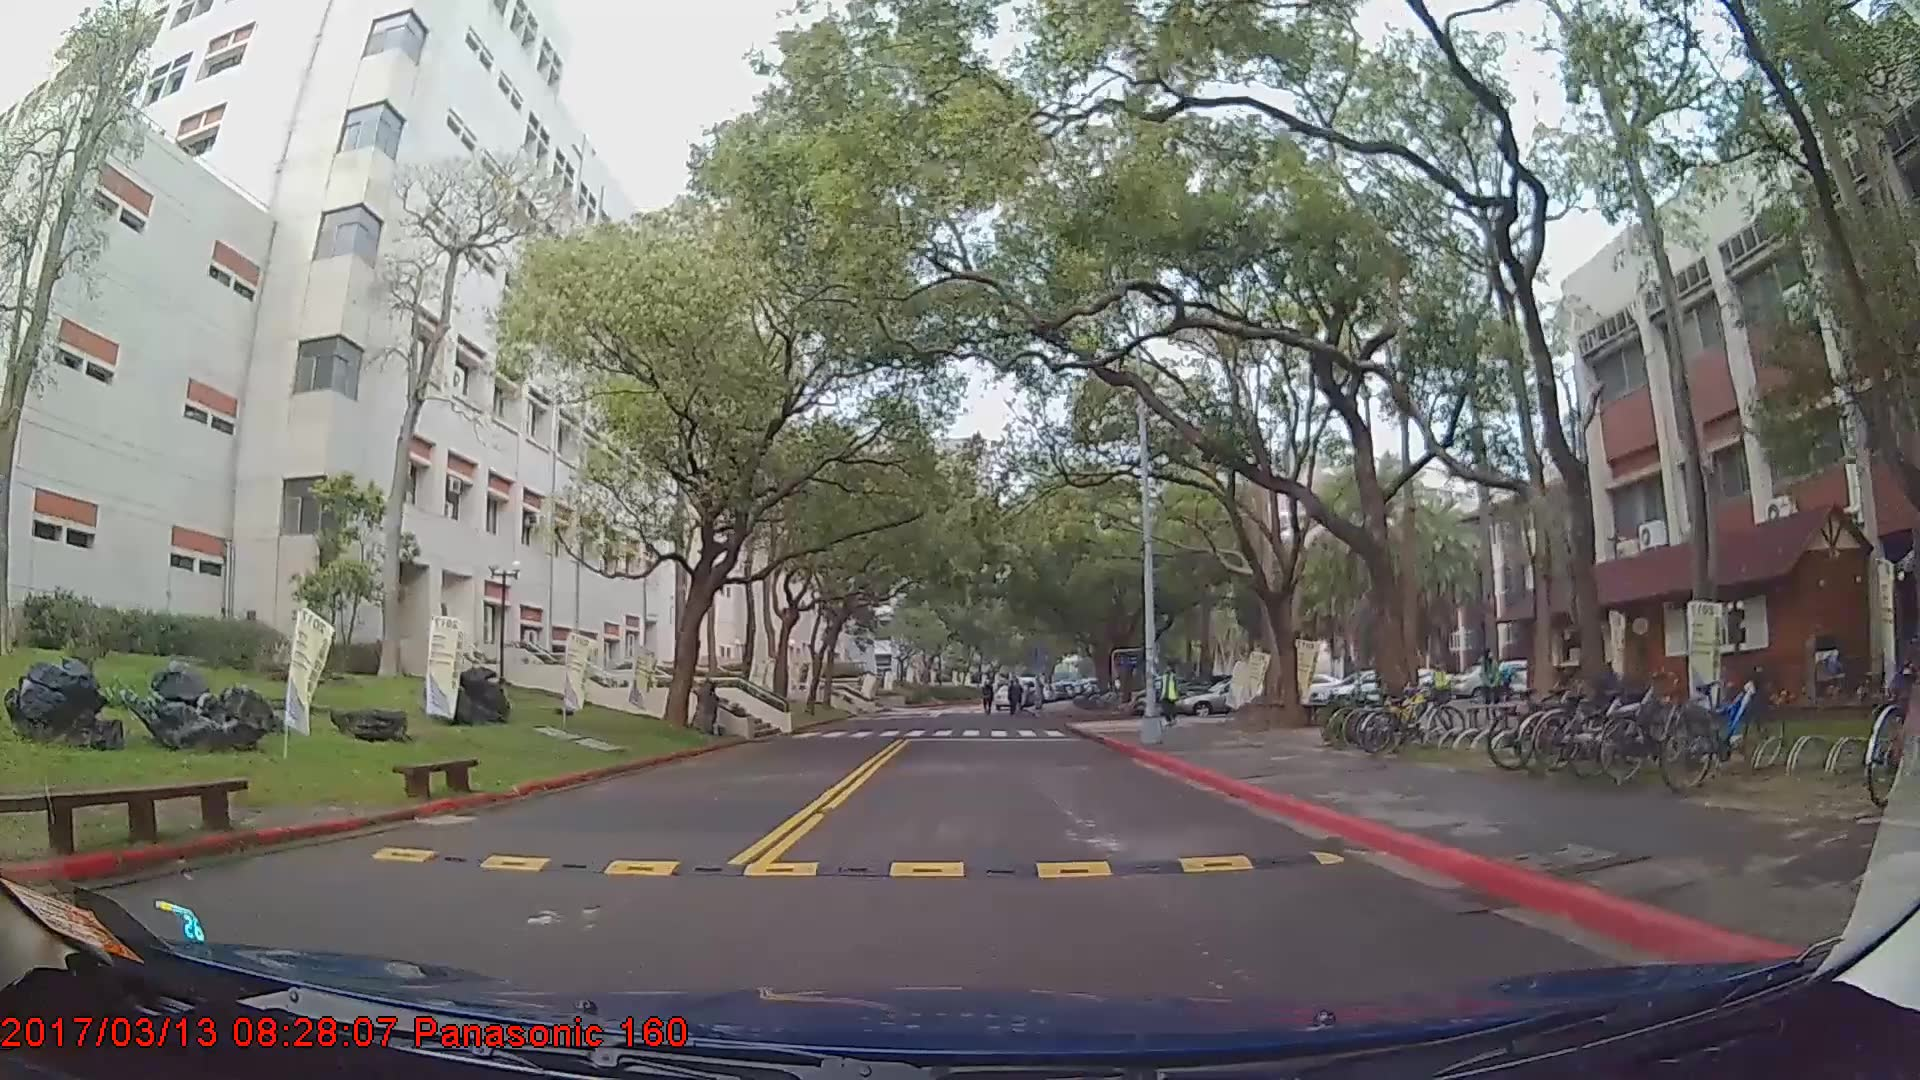vehicle: (1175, 676, 1274, 715)
